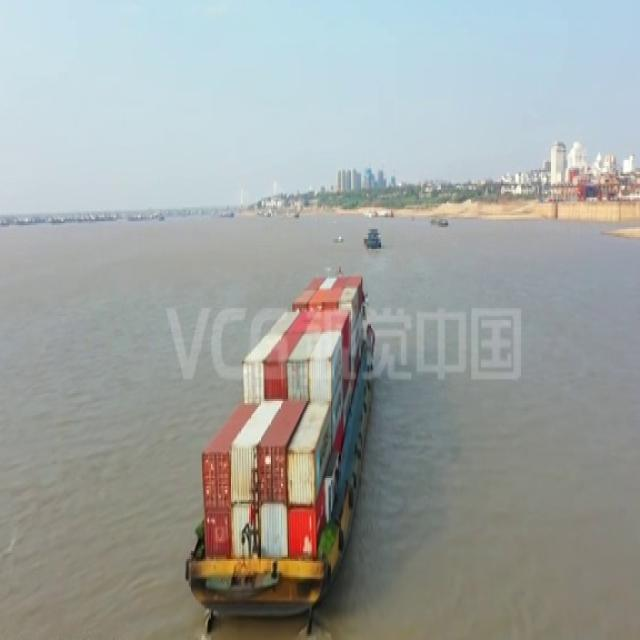cargoship: (187, 256, 374, 614)
